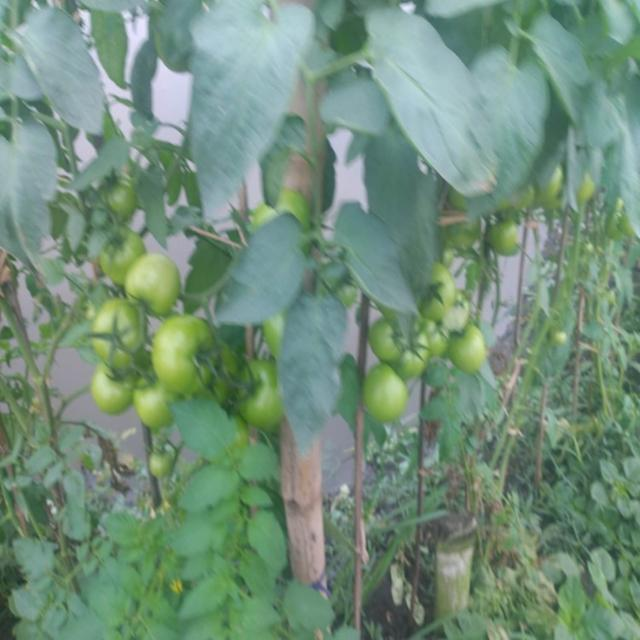tomato: (156, 319, 212, 390), (92, 300, 143, 364), (241, 359, 280, 433), (129, 253, 177, 309), (367, 367, 411, 428), (133, 371, 173, 429), (451, 321, 491, 378), (91, 360, 132, 414), (104, 233, 143, 288), (367, 319, 407, 369), (213, 338, 237, 410), (426, 269, 456, 320), (490, 220, 521, 263), (404, 323, 428, 368), (423, 320, 448, 360), (149, 447, 177, 482), (109, 180, 135, 217), (277, 194, 308, 222), (448, 222, 479, 250), (546, 171, 566, 214), (266, 317, 283, 350), (577, 176, 598, 201), (617, 211, 634, 239), (556, 331, 571, 347)
